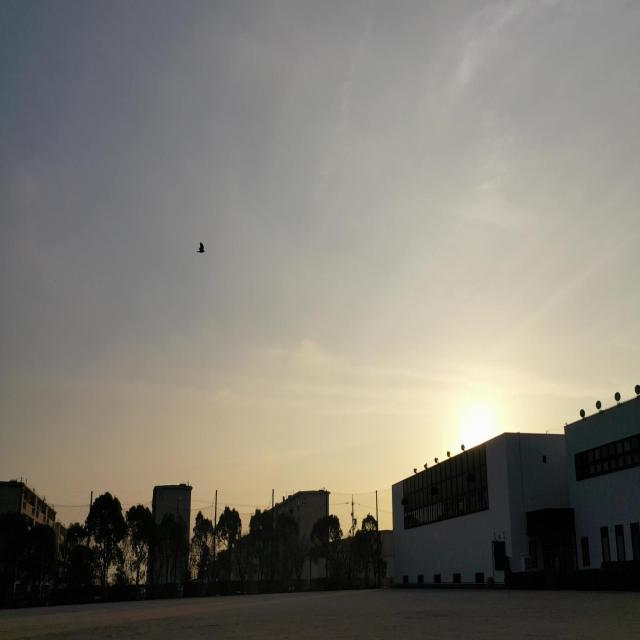Birds: (192, 240, 212, 260)
